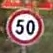limite 50: (4, 8, 44, 45)
